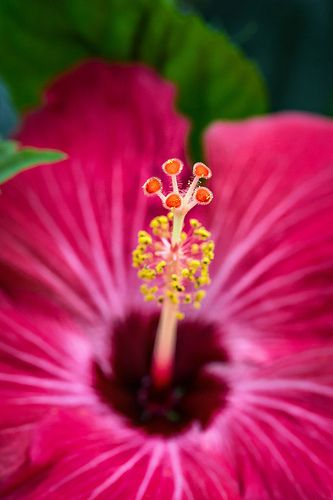Hibiscus: (1, 60, 333, 500)
